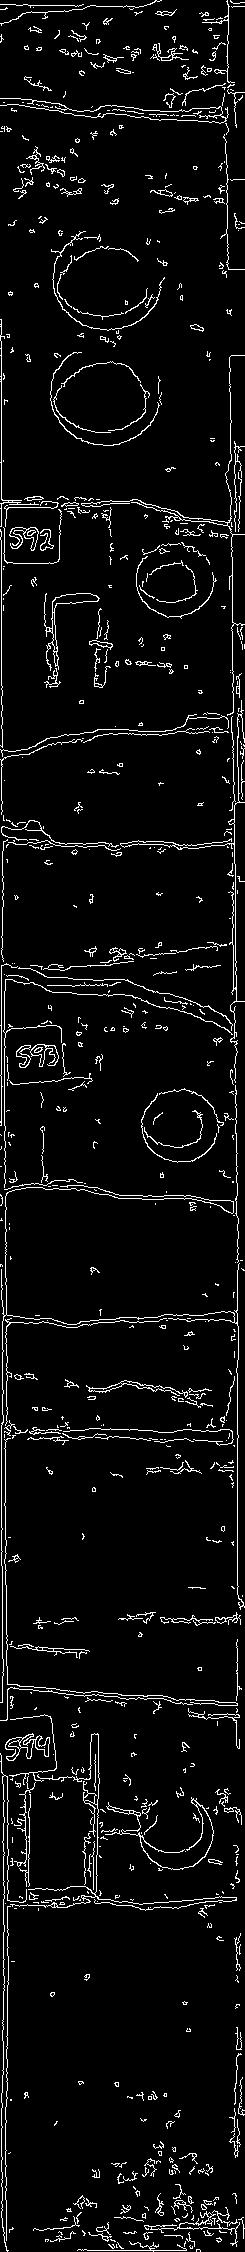hplug: (130, 1080, 224, 1163), (132, 1790, 221, 1876), (128, 539, 218, 622)
scal: (46, 220, 165, 335), (46, 343, 162, 452)
vplug: (32, 1015, 117, 1199), (19, 1726, 106, 1906), (34, 498, 117, 685)
